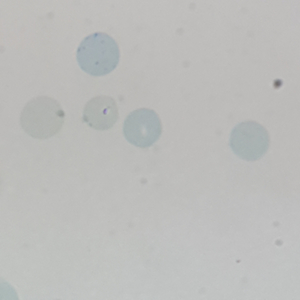erythrocyte: (18, 94, 67, 142), (120, 106, 163, 150), (80, 93, 121, 132)
punctate reticulocyte: (74, 31, 123, 78)
